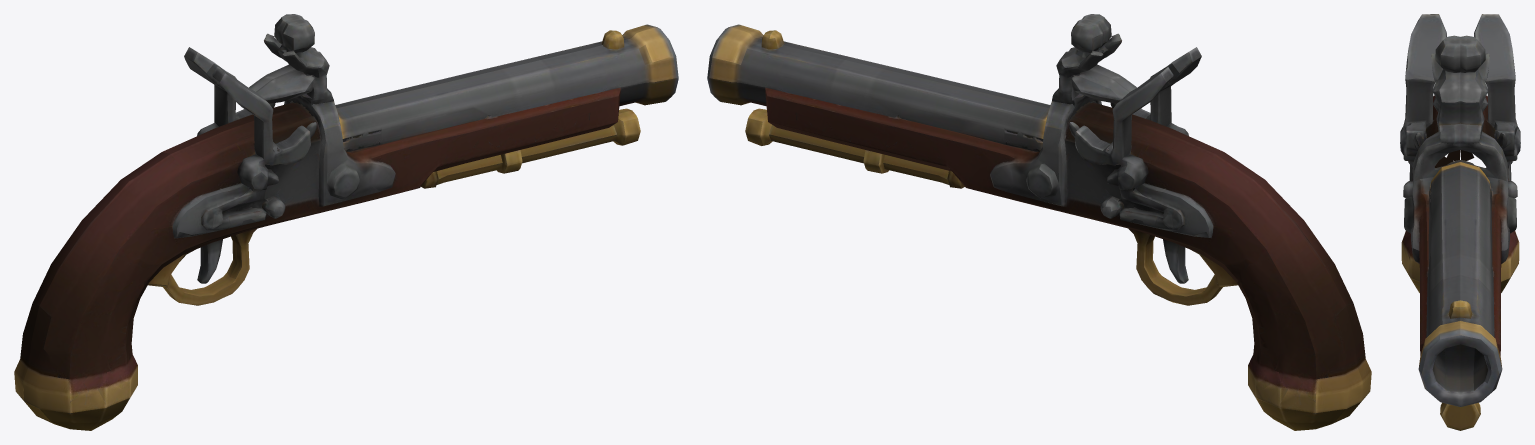
File: flintlock_pistol_low.glb
3 views of the same model, side by side, from view 1: azimuth 30°, elevation 25°; view 2: azimuth 150°, elevation 25°; view 3: azimuth 270°, elevation 25° (orthographic). The views are drawn at different scales.
Parts seen in each view (by area): view 1: world; view 2: world; view 3: world.
Part boxes in pixels (bbox=[...]): world: bbox=[14, 14, 678, 430]; world: bbox=[707, 14, 1371, 430]; world: bbox=[1400, 14, 1520, 430].
Size of the model in its own units: 1.01 by 0.5315 by 0.1542.
1 material, 1 textured.
